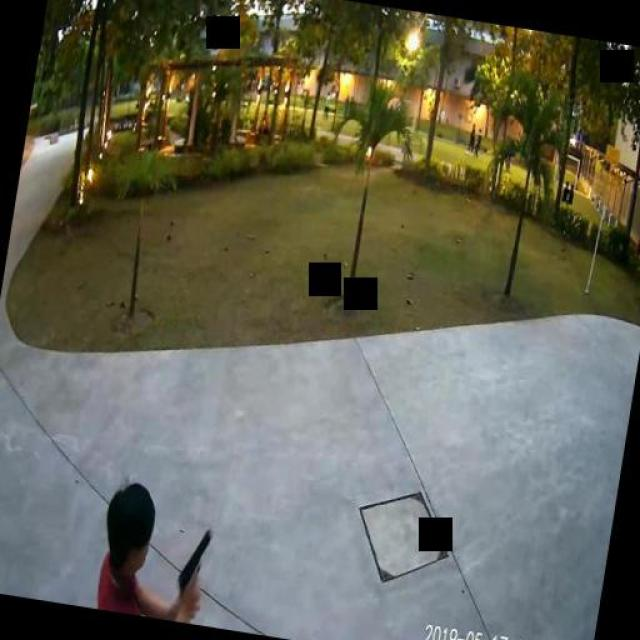gun: (174, 525, 211, 604)
